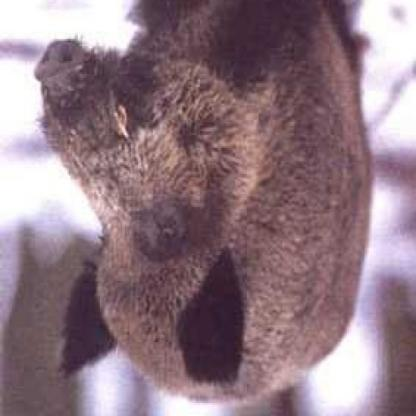boar: (30, 1, 391, 415)
